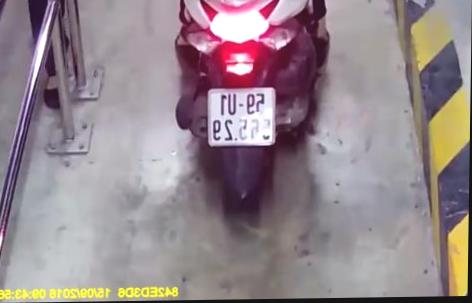License_Plate: (201, 82, 285, 153)
